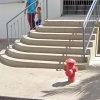stairs: (0, 16, 98, 68)
